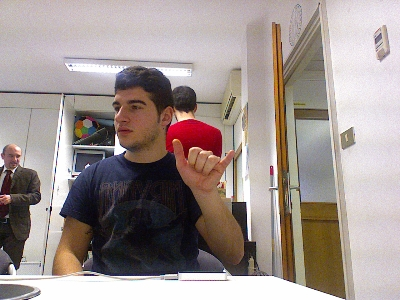六六六: (171, 136, 235, 191)
